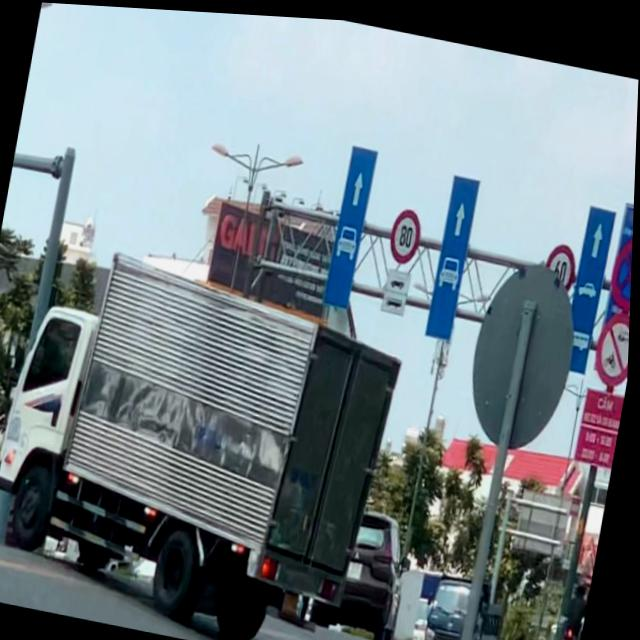Cam dung xe va do xe: (605, 224, 634, 307)
Toc do toi da cho phep: (387, 201, 428, 264)
